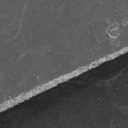corrosion: (104, 20, 123, 40)
